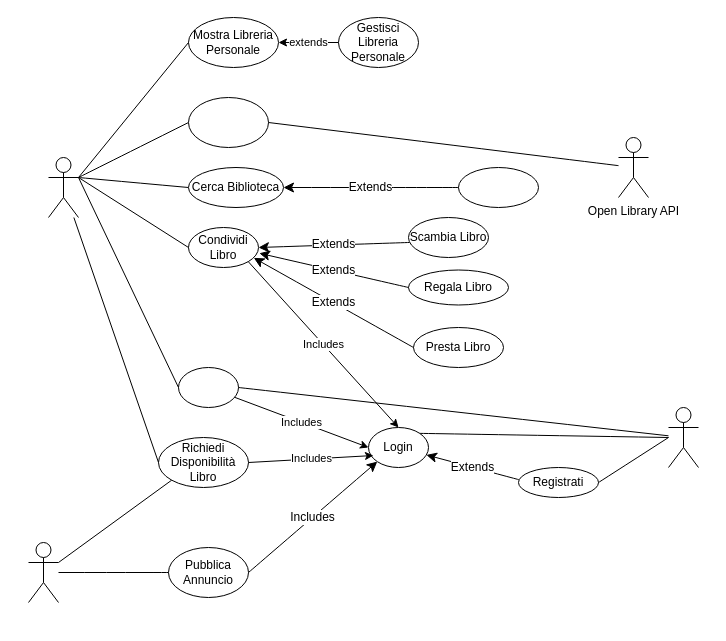
Some shapes in this 726 by 641 pixel diagram are drawn without their labels. The shapes that lost their labels are listed below. From the top down, each one's centre as x and y in pixels, then its label:
(x=228, y=122): Cerca Libro
(x=63, y=187): Lettore
(x=498, y=187): Segui Biblioteca
(x=208, y=387): Aggiungi Amico
(x=683, y=437): DB Utenti
(x=43, y=572): Biblioteca
